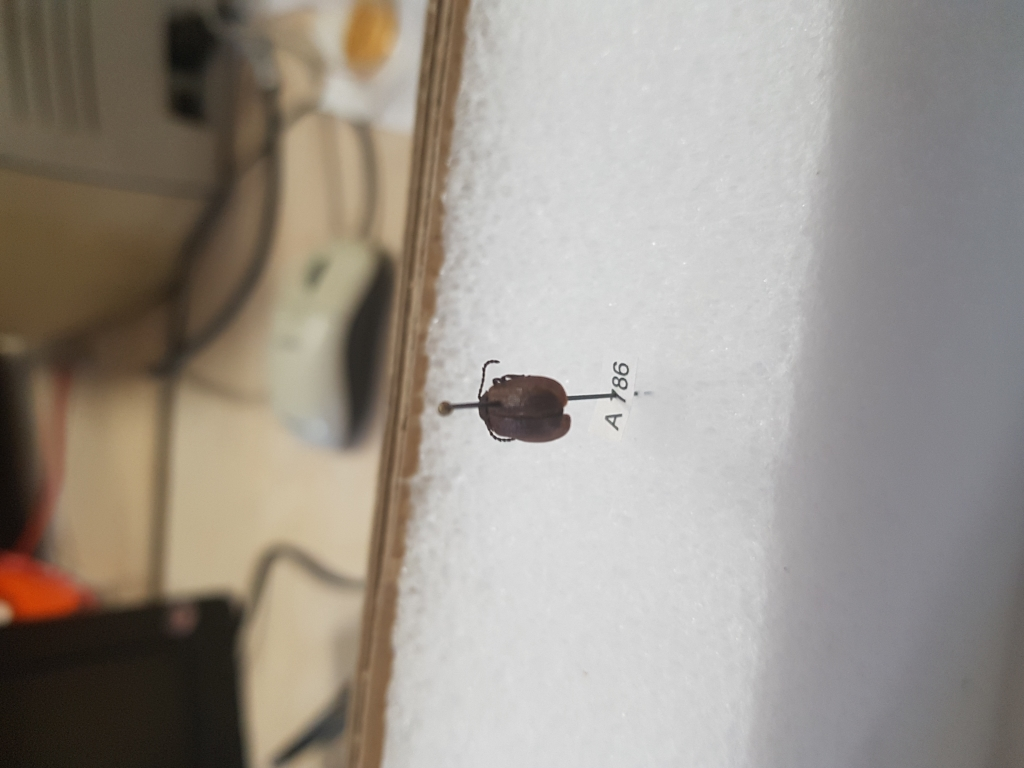Galeruca_tanaceti: (475, 356, 575, 446)
